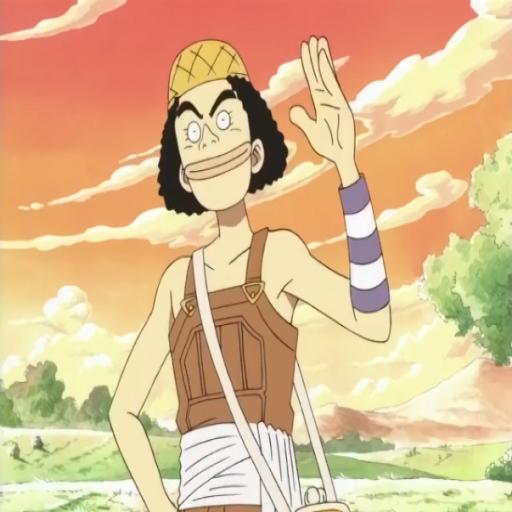Usopp: (112, 20, 392, 512)
